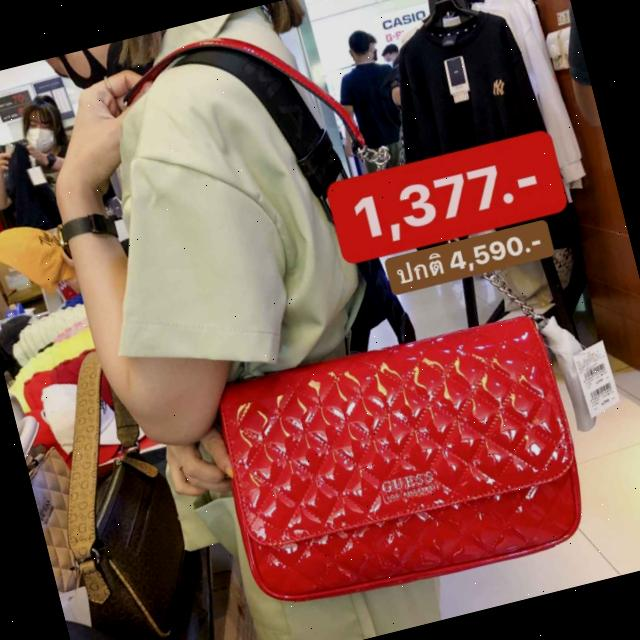Handbag: (202, 308, 597, 621)
